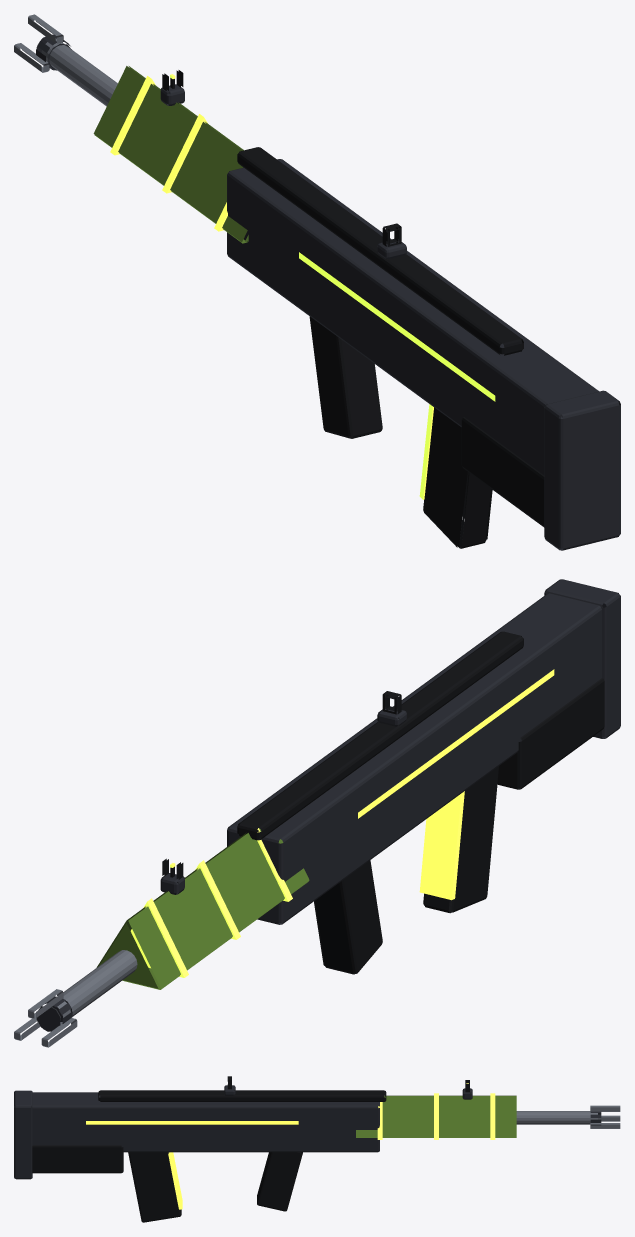
File: burst_lod.glb
3 renders of one model, top to bottom at view 1: azimuth 30°, elevation 25°; view 2: azimuth 150°, elevation 25°; view 3: azimuth 270°, elevation 25°, orthographic. The views are drawn at different scales.
Visible parts, largest first — view 1: Body, Magazine, IronSights; view 2: Body, Magazine, IronSights; view 3: Body, Magazine, IronSights.
Part boxes in pixels (x1,y1,x2,y2): Body: (14,14,620,550); Magazine: (419,404,492,548); IronSights: (160,70,406,259); Body: (14,579,620,1047); Magazine: (419,766,498,913); IronSights: (160,691,406,894); Body: (14,1090,620,1211); Magazine: (128,1152,182,1222); IronSights: (224,1076,472,1099).
Bounding box in the file's own units: 0.0745 × 0.2491 × 0.97.
